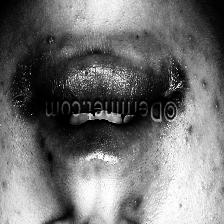Non-Cancerous Skin Condition: (160, 82, 224, 224), (0, 30, 54, 172), (120, 182, 154, 214)
